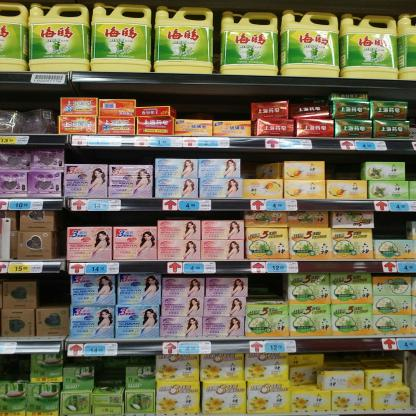Void: (175, 90, 249, 118), (65, 147, 153, 165), (59, 216, 161, 228), (262, 85, 324, 101), (332, 352, 404, 364), (1, 90, 55, 106), (93, 361, 122, 390), (323, 152, 358, 176), (40, 277, 70, 305), (250, 274, 282, 300), (248, 149, 277, 177), (376, 215, 408, 237), (4, 354, 27, 382), (138, 85, 166, 103)
